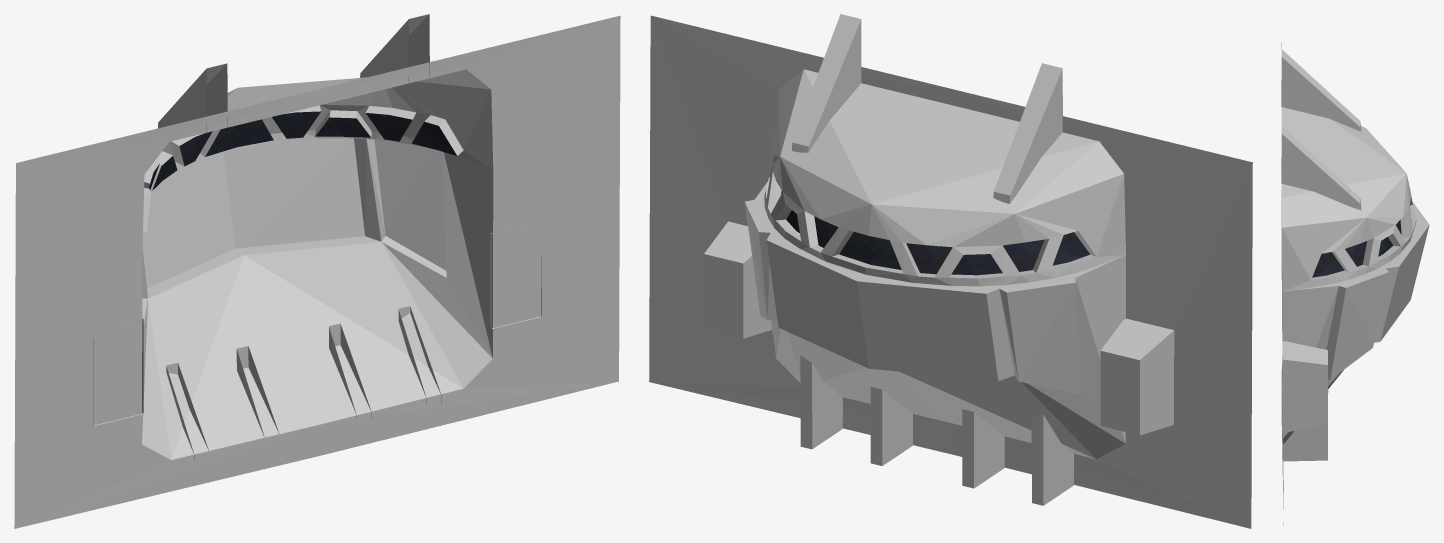
File: star_destroyer_bridge_l1.fbx
3 renders of one model, left to right at view 1: azimuth 30°, elevation 25°; view 2: azimuth 150°, elevation 25°; view 3: azimuth 270°, elevation 25°, orthographic. The views are drawn at different scales.
Parts seen in each view (by area): view 1: mesh_node; view 2: mesh_node; view 3: mesh_node.
Boxes of the visible parts, x1,y1,x2,y2 form: mesh_node: (14, 14, 620, 528); mesh_node: (649, 14, 1252, 528); mesh_node: (1281, 43, 1429, 525).
Bounding box in the file's own units: 45.36 × 29.79 × 12.39.
